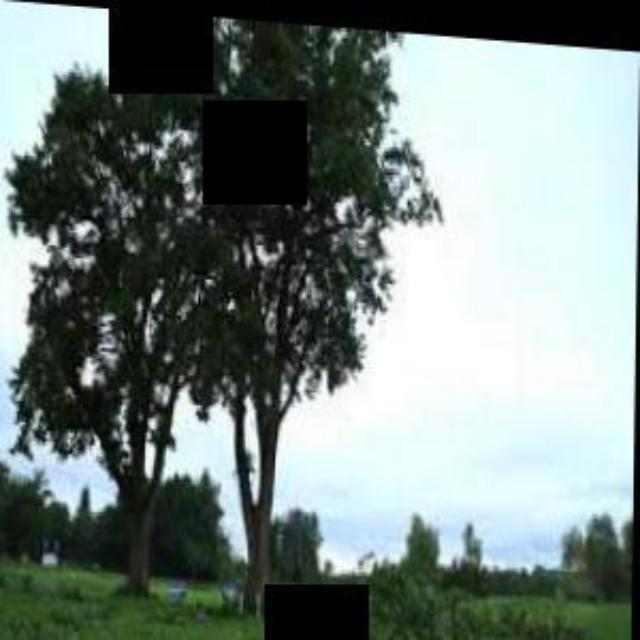tree: (135, 9, 429, 617), (1, 43, 218, 589)
